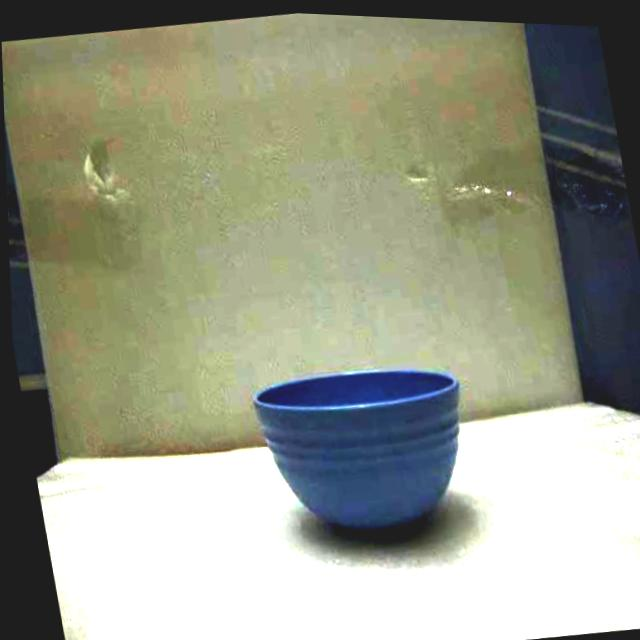Bowl: (255, 371, 459, 535)
